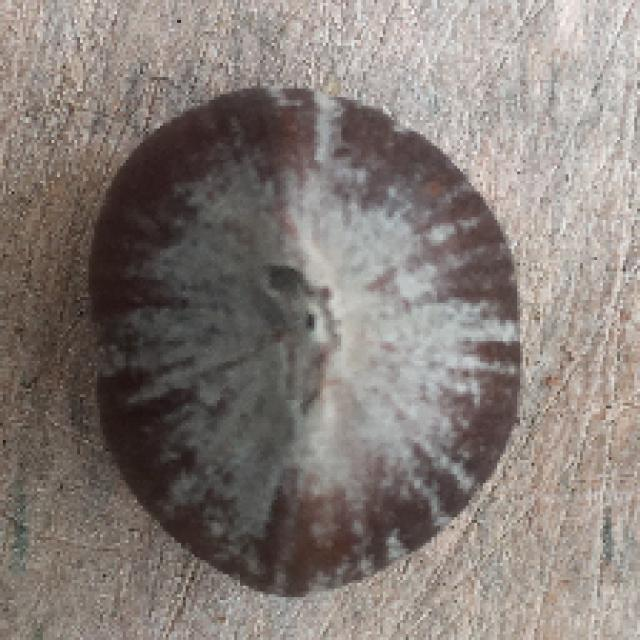DamagedHazelnut: (88, 88, 526, 601)
